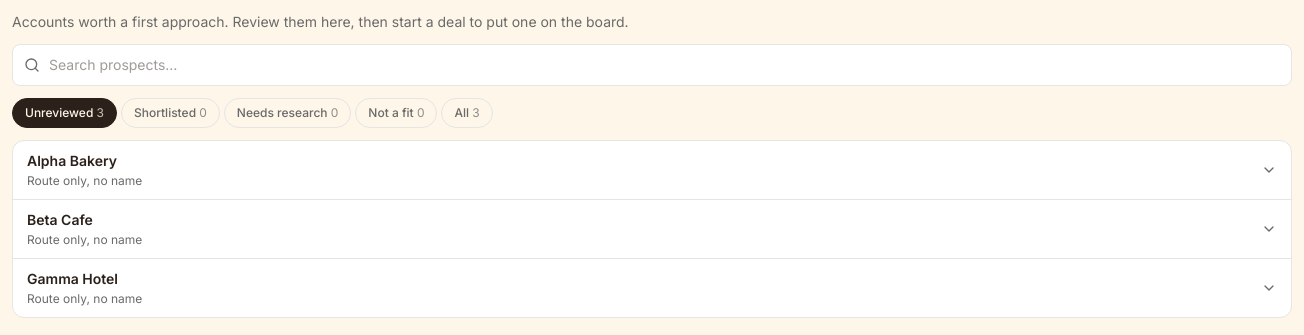
Test: Pipeline → Prospects tab › searches by name
Type "gamma" into the field with placeholder "Search prospects…" at (652, 65), box [12, 44, 1292, 86]
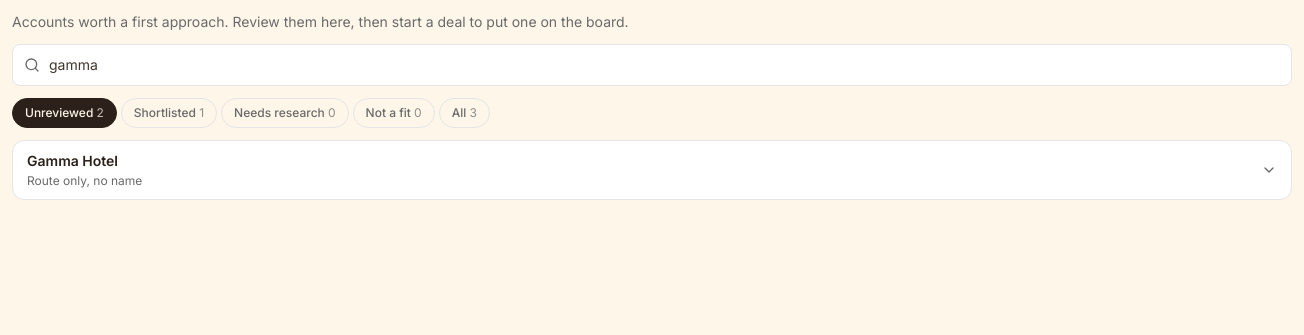
Expected: the text "Gamma Hotel" is shown, [27, 152, 118, 169]
Result: the button "Alpha Bakery" is gone
